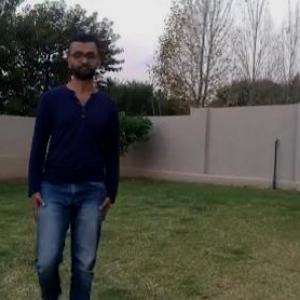follow: (21, 23, 124, 299)
